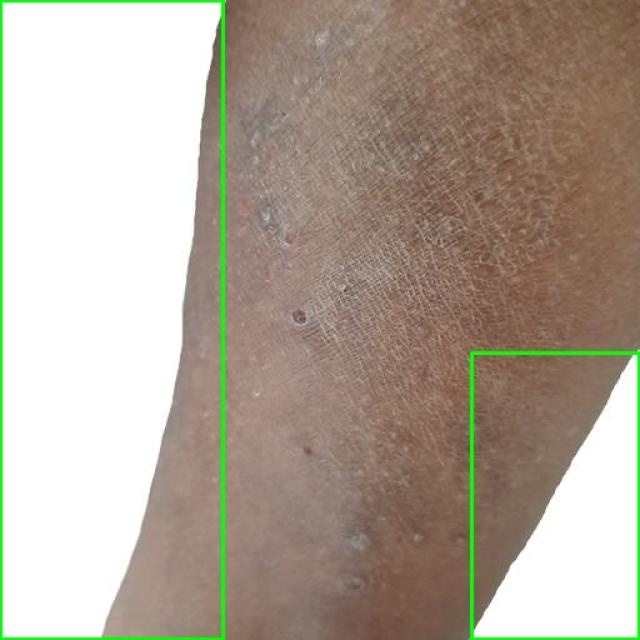Contact Dermatitis: (0, 0, 222, 639), (471, 352, 639, 639)
